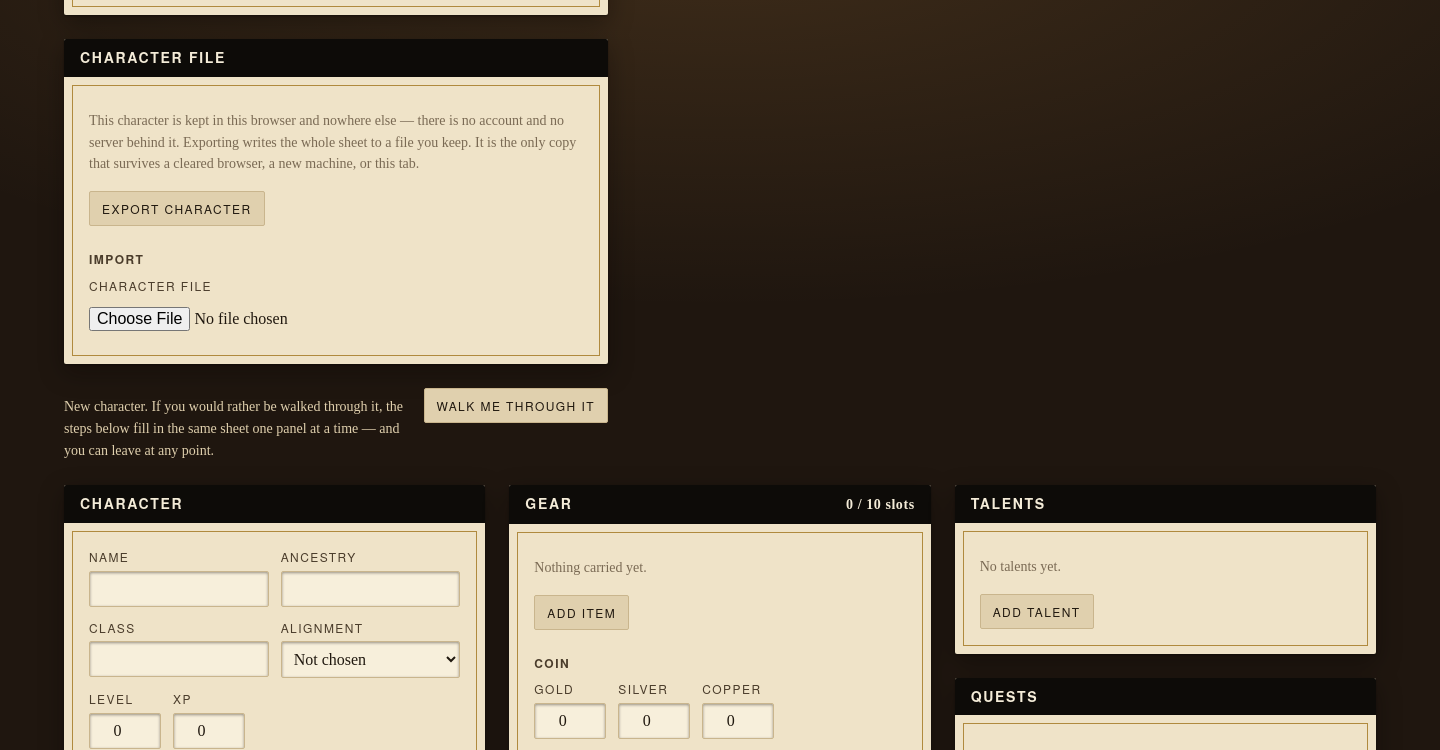
Test: the creation walkthrough › steps forward and back, and says where it is
The width and height of the screenshot is (1440, 750).
(page scrolled)
Click the button "Walk me through it".
click(516, 406)  # box [424, 388, 608, 423]
(page scrolled)
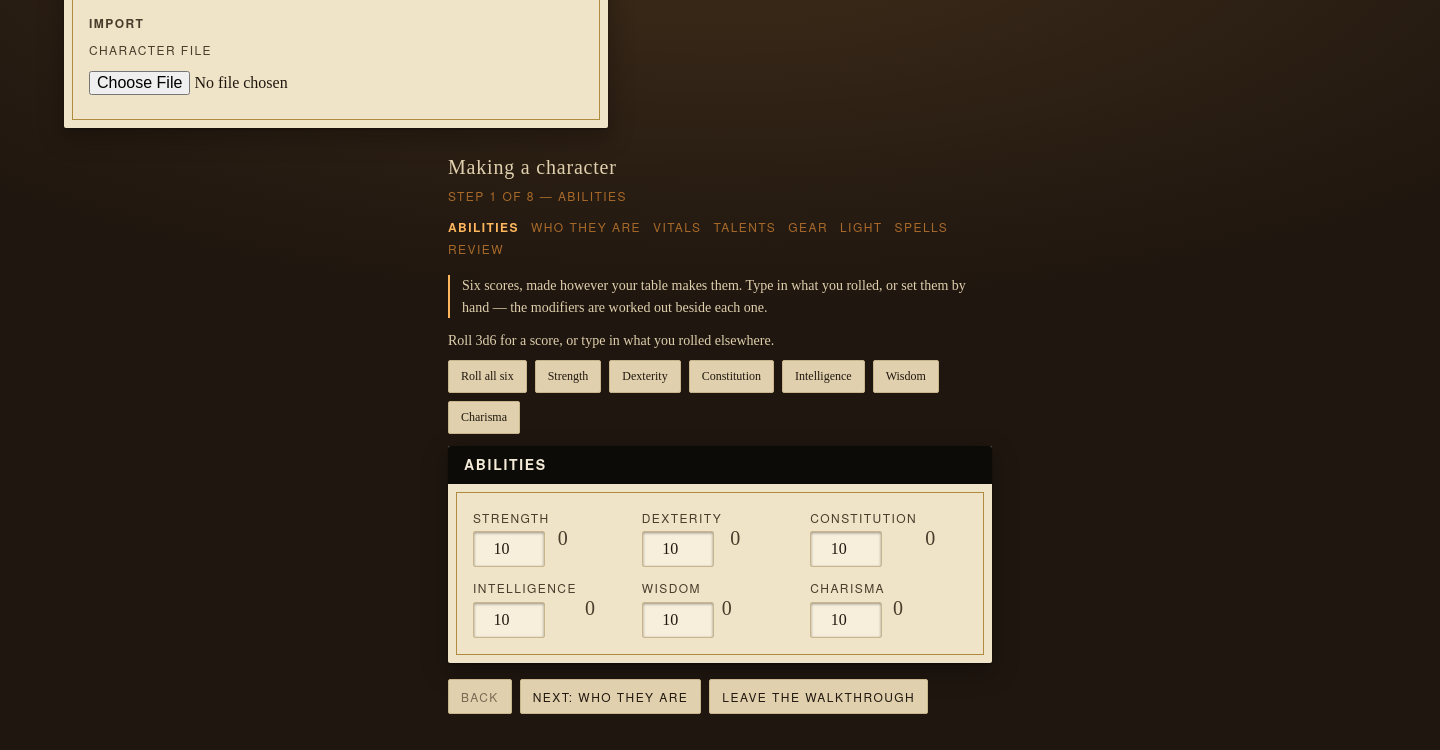
Click the button "Next: Who they are".
click(611, 696)  # box [520, 679, 701, 714]
(page scrolled)
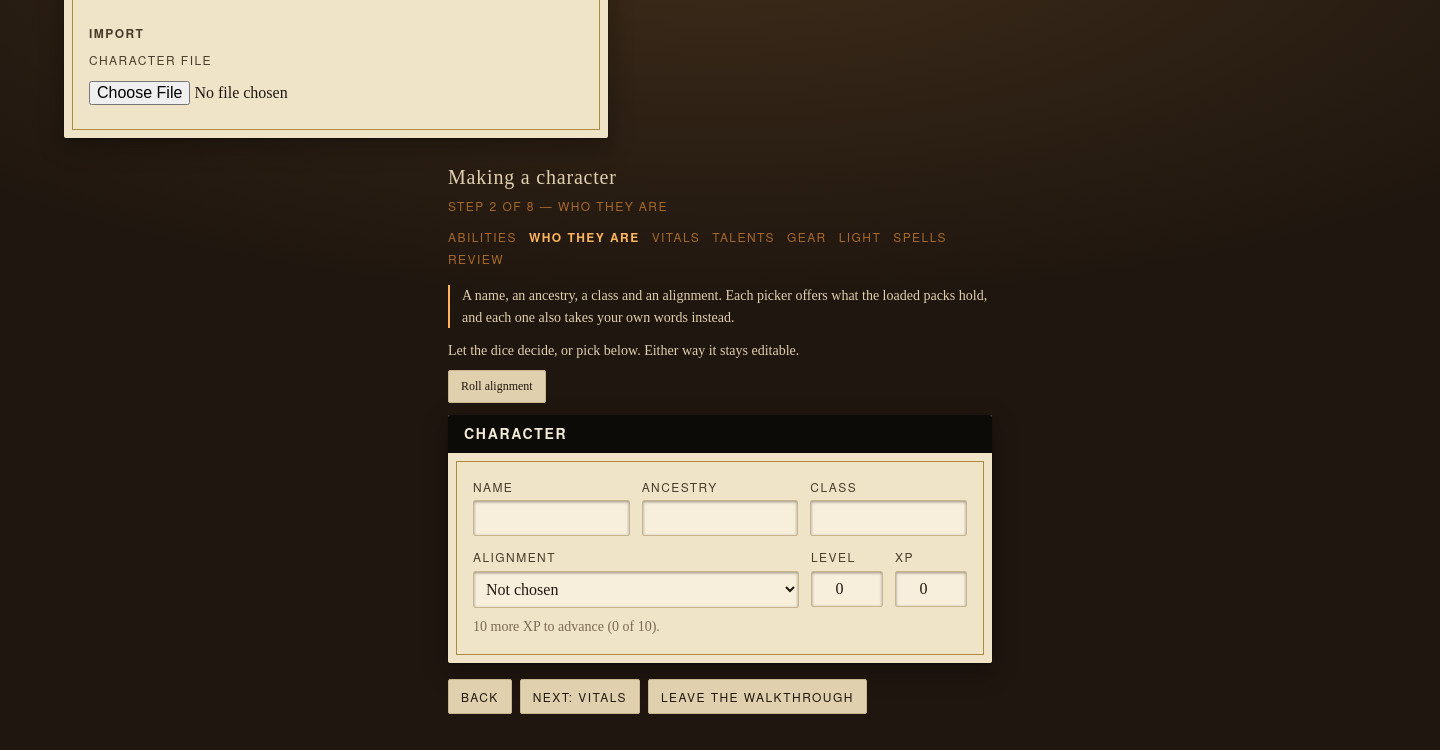
Result: the button "Who they are" is shown at [529, 228, 640, 246]
Result: the text with class "walkthrough__position" shows "Step 2 of 8" at [448, 197, 668, 214]
Click the button "Back".
click(480, 696)  # box [448, 679, 512, 714]
(page scrolled)
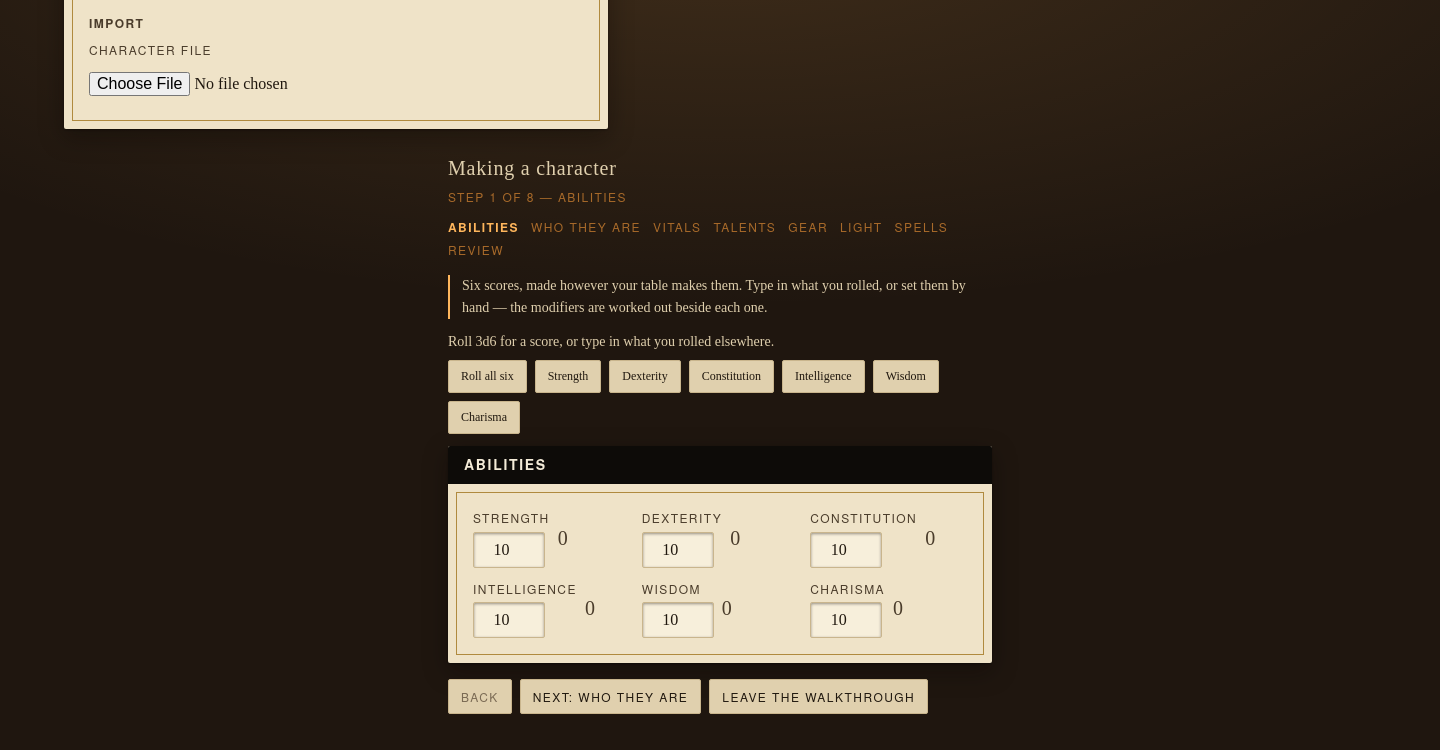
Result: the button "Abilities" is shown at [448, 218, 519, 237]
Result: the text with class "walkthrough__position" shows "Step 1 of 8" at [448, 188, 627, 204]
Result: the button "Back" is disabled at [448, 679, 512, 714]
